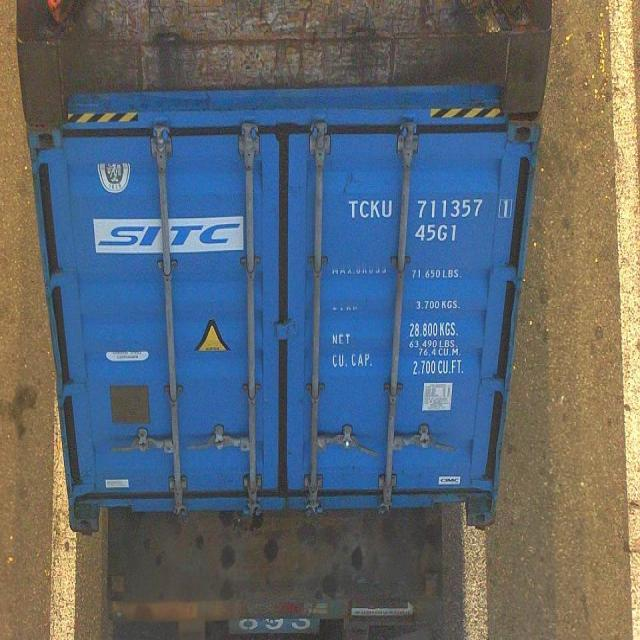ISO: (414, 226, 460, 242)
container_number: (350, 199, 506, 222)
